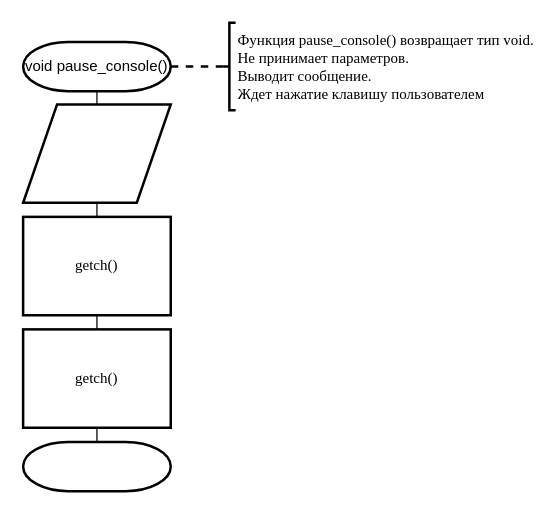
Some shapes in this 555 by 514 pixel diagram are drawn without their labels. Each missing label, with the centre of its shape:
Конец: (96,466)
Нажмите любую клавишу для продолжения ...: (96,152)
